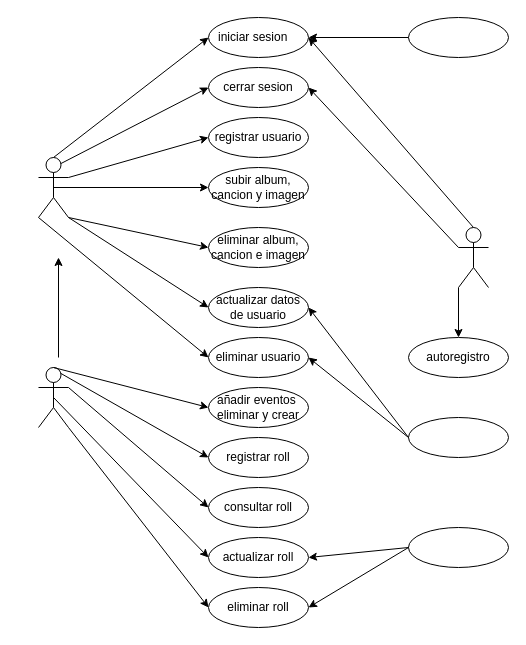
Image size: 526x645. Some labels were removed from this diagram. Here are the shapes that lost their labels. From the top down, the box of each, then its label:
(408, 16, 508, 58): recuperar contraseña
(38, 156, 68, 218): artista
(458, 226, 488, 288): usuario
(38, 366, 68, 428): administrador
(408, 416, 508, 458): obtener usuario por id
(408, 526, 508, 568): obtener roll por id
